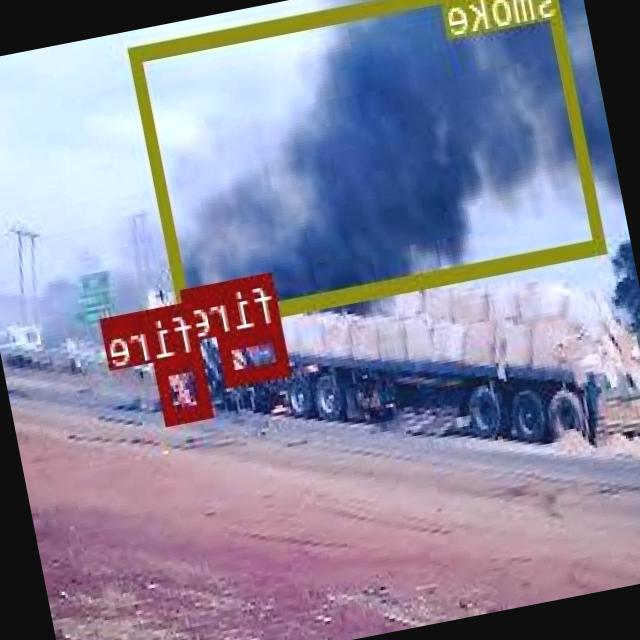fire: (219, 319, 293, 382), (158, 352, 215, 422)
smoke: (130, 0, 608, 332)
